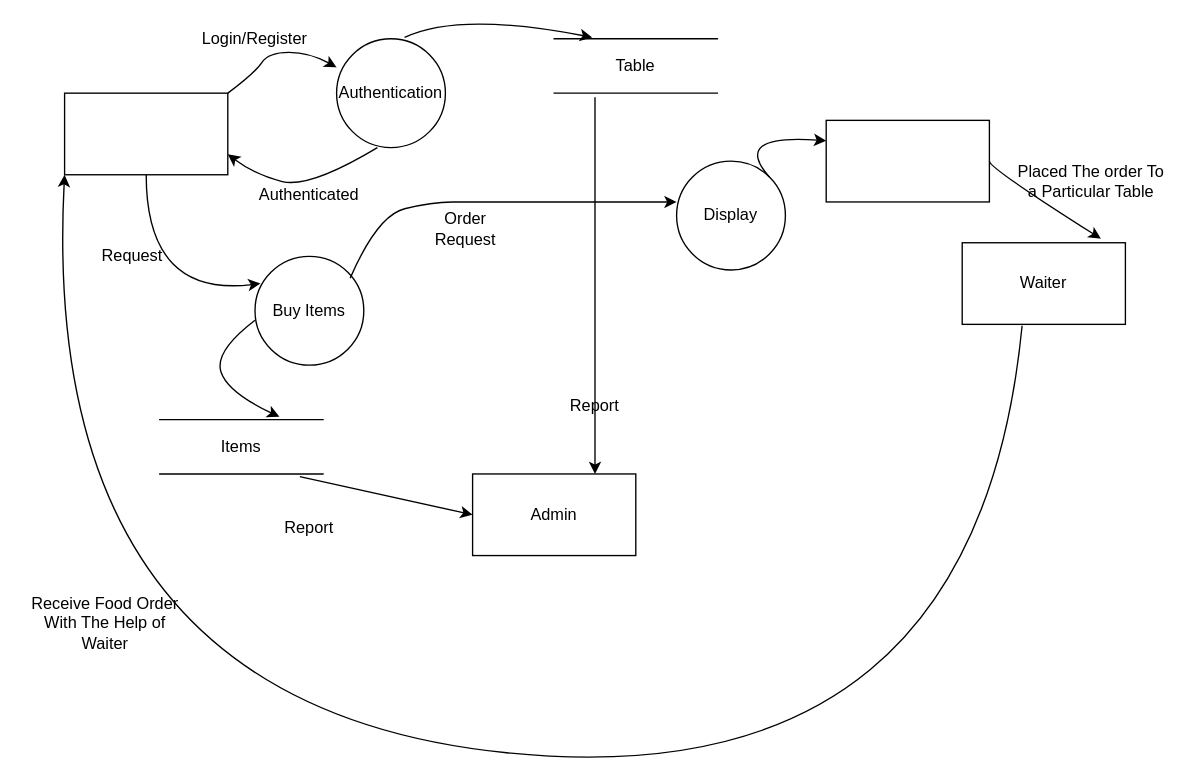
Image size: 1189x782. Some labels were removed from this diagram. Here are the shapes that lost their labels. From the top down, the box of each, then its label:
(63, 92, 228, 175): Customer
(825, 119, 989, 202): Chef
